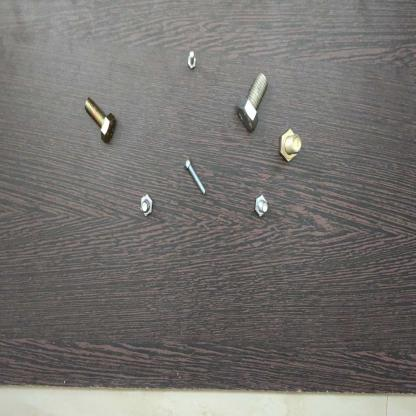Bolts: (237, 69, 271, 138), (82, 94, 119, 148), (273, 121, 303, 166), (181, 150, 207, 198), (251, 186, 272, 224), (137, 189, 156, 218), (184, 47, 200, 74)
